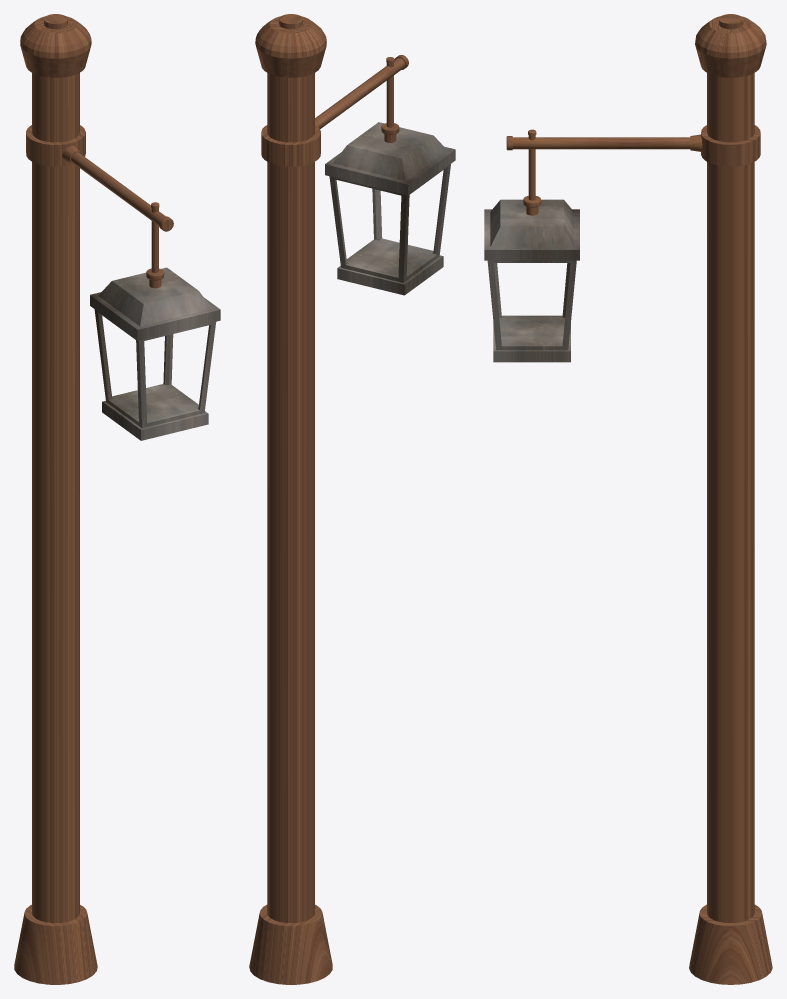
The model's file is LampPost.FBX.
The picture shows the model from 3 angles, left to right: view 1: azimuth 30°, elevation 25°; view 2: azimuth 150°, elevation 25°; view 3: azimuth 270°, elevation 25°; orthographic projection.
Visible parts, largest first — view 1: Cylinder002, Box001, Box002, Cylinder001, Cylinder004, Box003, Cylinder003, Cylinder007; view 2: Cylinder002, Box001, Box002, Cylinder001, Cylinder004, Cylinder003, Box003, Cylinder007; view 3: Cylinder002, Box001, Cylinder001, Box002, Cylinder004, Cylinder007, Cylinder003, Box003.
Part boxes in pixels (box(x1,y1,x2,y2)): Cylinder002: box(32, 73, 79, 922); Box001: box(90, 267, 220, 340); Box002: box(94, 309, 215, 428); Cylinder001: box(14, 904, 97, 984); Cylinder004: box(20, 16, 91, 77); Box003: box(102, 400, 208, 440); Cylinder003: box(26, 125, 85, 166); Cylinder007: box(71, 152, 165, 225); Cylinder002: box(267, 73, 314, 922); Box001: box(325, 122, 455, 195); Box002: box(329, 164, 450, 282); Cylinder001: box(249, 904, 332, 984); Cylinder004: box(255, 16, 326, 77); Cylinder003: box(261, 125, 320, 166); Box003: box(337, 255, 443, 295); Cylinder007: box(315, 58, 405, 128); Cylinder002: box(707, 73, 754, 922); Box001: box(484, 199, 579, 260); Cylinder001: box(689, 904, 772, 984); Box002: box(487, 260, 576, 350); Cylinder004: box(695, 16, 766, 77); Cylinder007: box(512, 137, 690, 149); Cylinder003: box(701, 125, 760, 166); Box003: box(493, 322, 570, 362).
Size of the model in its own units: 8 by 87.36 by 24.08.
Materials: 2 (2 with a texture image).
